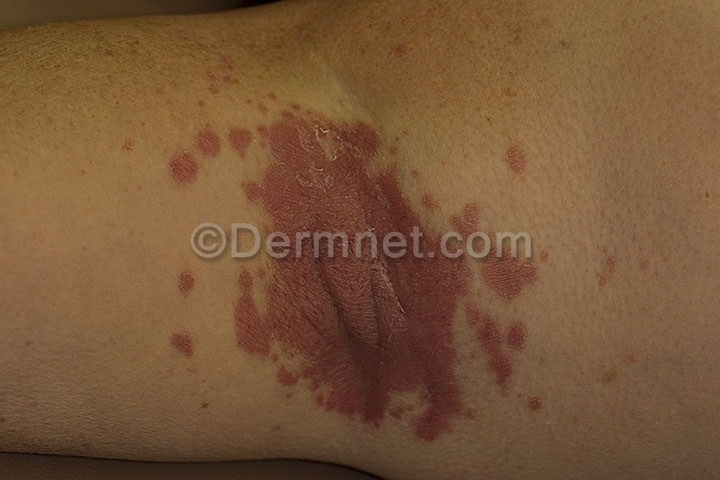Psoriasis: (185, 96, 532, 433)
